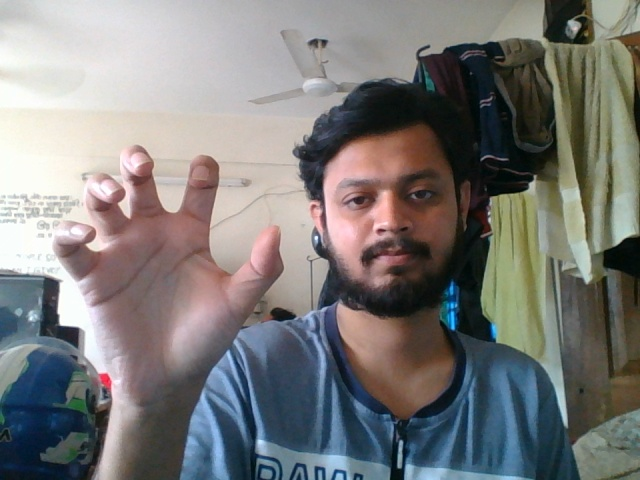ja: (49, 141, 291, 439)
